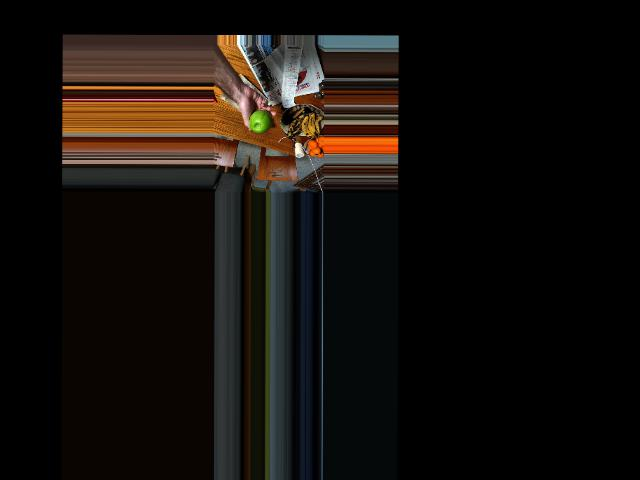apple: (248, 109, 271, 134)
